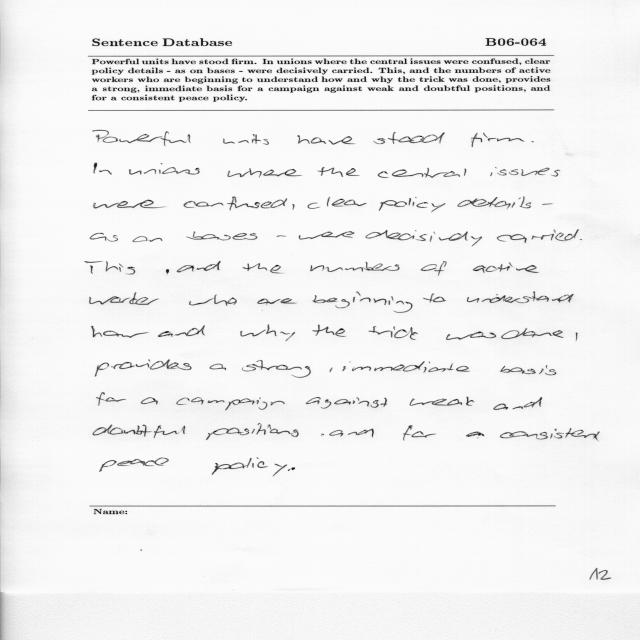word: (313, 292, 413, 313), (366, 230, 482, 246), (95, 360, 192, 377), (206, 423, 299, 440), (93, 130, 191, 146), (342, 361, 470, 373), (184, 197, 287, 211), (212, 458, 287, 477), (177, 397, 285, 410), (500, 428, 600, 441), (242, 360, 311, 378), (93, 425, 185, 438), (467, 292, 574, 303), (497, 230, 579, 243), (379, 197, 446, 212), (306, 397, 387, 409), (100, 458, 169, 472), (458, 197, 531, 210), (90, 292, 159, 305), (310, 262, 399, 272), (378, 168, 466, 178), (240, 325, 295, 341), (373, 132, 445, 144), (129, 163, 199, 175), (227, 168, 302, 178), (471, 133, 524, 147), (473, 263, 539, 274), (308, 197, 367, 209), (490, 167, 560, 177), (85, 261, 135, 275), (368, 326, 418, 340), (501, 328, 564, 339), (92, 326, 149, 338), (94, 200, 165, 209), (187, 232, 258, 241), (494, 397, 543, 410), (410, 397, 475, 406), (297, 135, 355, 145), (189, 294, 237, 306), (158, 325, 205, 337), (500, 365, 556, 375), (177, 261, 221, 273), (223, 134, 269, 145), (299, 231, 355, 240), (403, 425, 436, 440), (446, 331, 496, 340), (318, 167, 360, 177), (312, 325, 346, 337), (97, 392, 126, 406), (329, 429, 374, 438), (243, 263, 282, 273), (421, 261, 447, 276), (257, 298, 297, 305), (90, 233, 118, 242), (94, 163, 112, 175), (423, 294, 446, 303), (133, 236, 163, 242), (141, 398, 158, 405), (466, 431, 484, 437), (210, 364, 226, 370), (288, 467, 295, 471), (542, 203, 553, 205), (292, 204, 295, 210), (576, 333, 578, 341), (166, 269, 169, 274), (330, 368, 333, 372), (277, 236, 286, 237), (531, 141, 534, 143), (321, 434, 324, 436), (580, 239, 582, 240)
